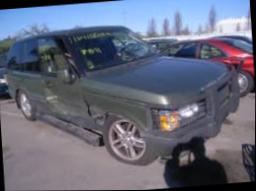Door: (41, 83, 74, 114)
Fender: (87, 98, 112, 125)
